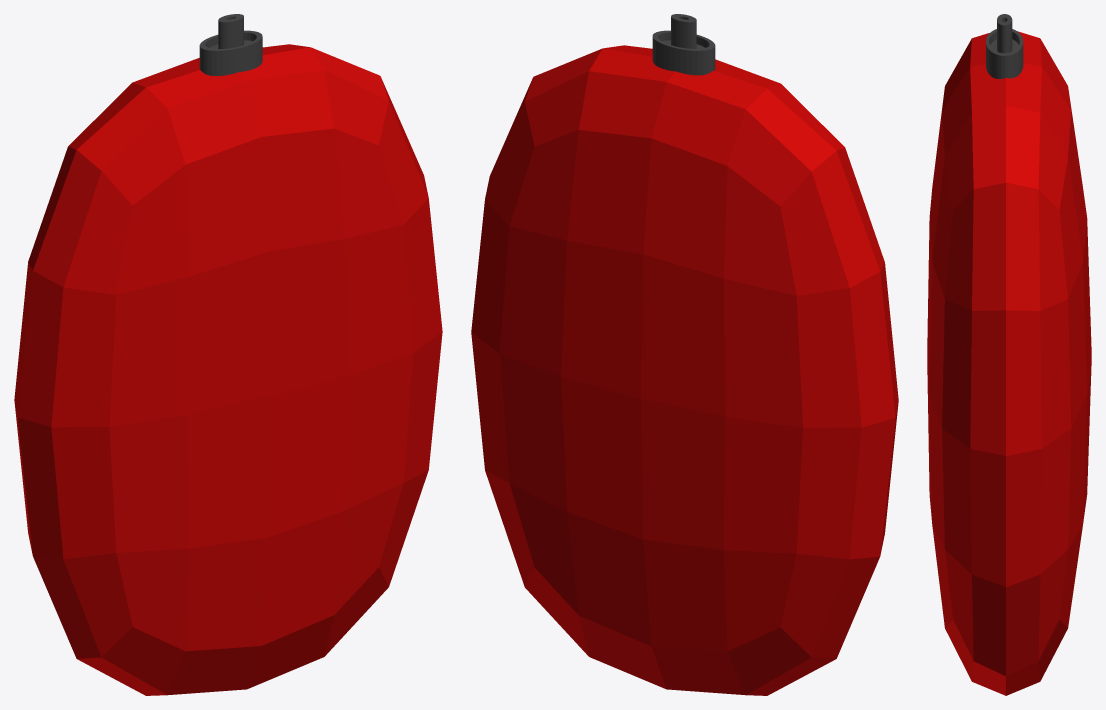
File: Bloodbag.fbx
3 renders of one model, left to right at view 1: azimuth 30°, elevation 25°; view 2: azimuth 150°, elevation 25°; view 3: azimuth 270°, elevation 25°, orthographic. The views are drawn at different scales.
Visible parts, largest first — view 1: Cube; view 2: Cube; view 3: Cube.
Boxes of the visible parts, x1,y1,x2,y2 form: Cube: (14,14,442,695); Cube: (471,14,898,695); Cube: (927,14,1091,695).
Size of the model in its own units: 181 by 274 by 62.95.
